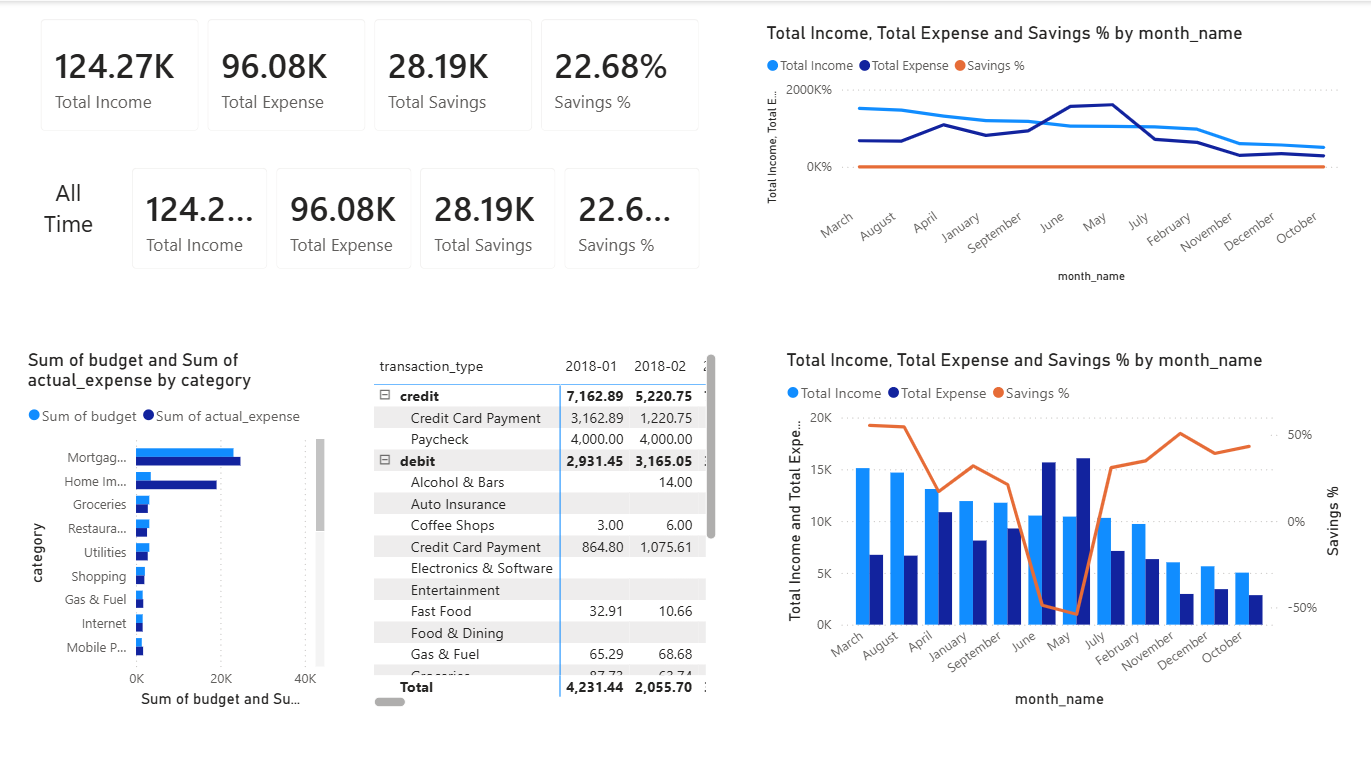

Layout of this report page (visuals, bound fields, positions):
{"tool":"powerbi","page":{"name":"Page 2","canvas":[1280,720],"ordinal":0},"visuals":[{"type":"cardVisual","fields":{"Data":["monthly_summary.Total Income","monthly_summary.Total Expense","monthly_summary.Total Savings","monthly_summary.Savings %"]},"box":[20.4,0,649.6,138.1],"z":0},{"type":"lineChart","fields":{"Category":["monthly_summary.month_name"],"Y":["monthly_summary.Total Income","monthly_summary.Total Expense","monthly_summary.Savings %"]},"box":[708.4,19.2,543.9,247.4],"z":1000},{"type":"clusteredBarChart","fields":{"Category":["monthly_budget_vs_actual.category"],"Y":["Sum(monthly_budget_vs_actual.budget)","Sum(monthly_budget_vs_actual.actual_expense)"]},"box":[20.4,323,285.8,338.6],"z":2000},{"type":"cardVisual","fields":{"Data":["monthly_summary.Total Income","monthly_summary.Total Expense","monthly_summary.Total Savings","monthly_summary.Savings %"]},"box":[105.7,138.1,564.4,128.5],"z":3000},{"type":"textbox","box":[20.4,158.5,85.3,90.1],"z":4000},{"type":"lineClusteredColumnComboChart","fields":{"Category":["monthly_summary.month_name"],"Y":["monthly_summary.Total Income","monthly_summary.Total Expense"],"Y2":["monthly_summary.Savings %"]},"box":[726.5,323,525.9,338.6],"z":6000},{"type":"pivotTable","fields":{"Rows":["clean_transactions.transaction_type","clean_transactions.category"],"Values":["clean_transactions.Total Amount"],"Columns":["clean_transactions.Year-Month"]},"box":[343,323.3,327.9,338.4],"z":6001}]}

Visuals, with their boxes in screenshot pixels (x1, y1, x2, y2), scaled from the page's 1280x720 canvas onto the 1371x766 screenshot:
cardVisual - monthly_summary.Total Income x monthly_summary.Total Expense: <box>22,0,718,147</box>
lineChart - monthly_summary.month_name x monthly_summary.Total Income: <box>759,20,1341,284</box>
clusteredBarChart - monthly_budget_vs_actual.category x Sum(monthly_budget_vs_actual.budget): <box>22,344,328,704</box>
cardVisual - monthly_summary.Total Income x monthly_summary.Total Expense: <box>113,147,718,284</box>
textbox: <box>22,169,113,264</box>
lineClusteredColumnComboChart - monthly_summary.month_name x monthly_summary.Total Income: <box>778,344,1341,704</box>
pivotTable - clean_transactions.transaction_type x clean_transactions.category: <box>367,344,719,704</box>
